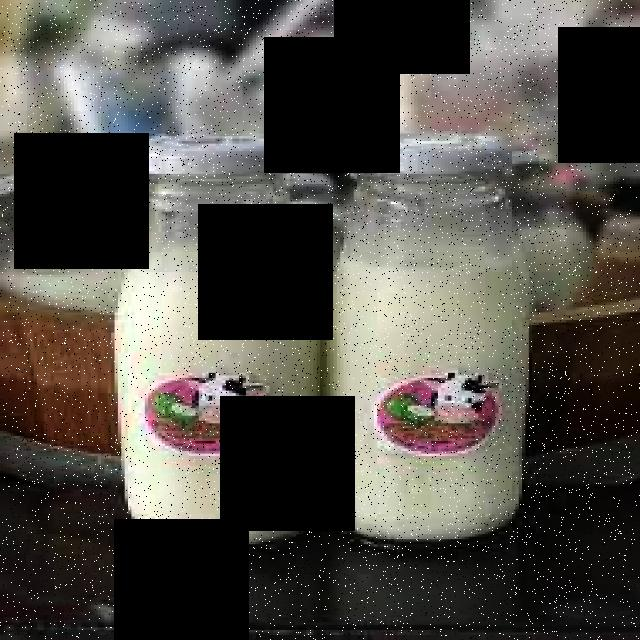glass-bottle: (92, 119, 571, 568)
